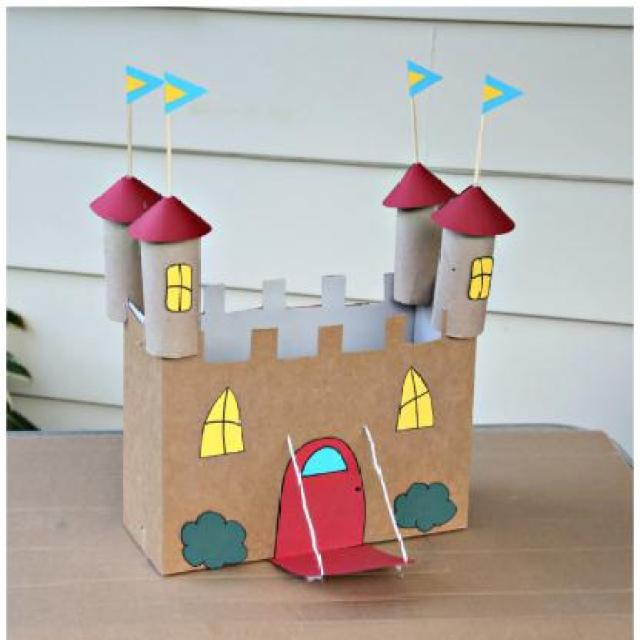box: (76, 157, 550, 603)
